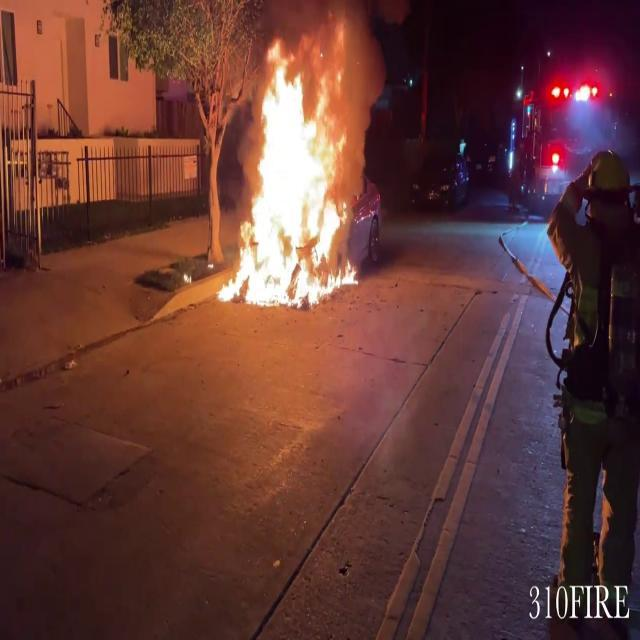Fire: (220, 34, 356, 311)
